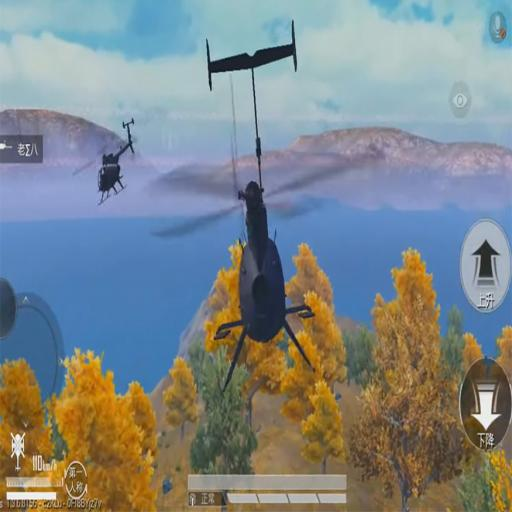helicopter: (194, 2, 336, 408), (71, 101, 150, 221)
